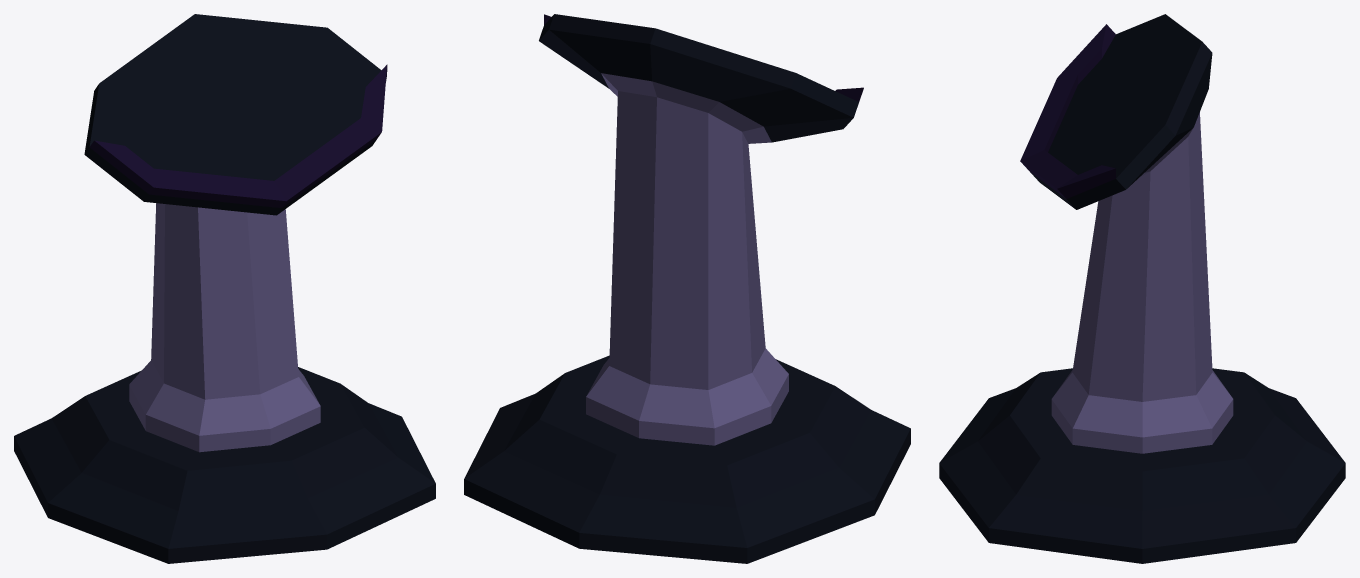
File: AltarPreto.fbx
3 views of the same model, side by side, from view 1: azimuth 30°, elevation 25°; view 2: azimuth 150°, elevation 25°; view 3: azimuth 270°, elevation 25° (orthographic). The views are drawn at different scales.
Visible parts, largest first — view 1: Altar; view 2: Altar; view 3: Altar.
Boxes of the visible parts, left/top/right/bottom form: Altar: left=14, top=14, right=435, bottom=563; Altar: left=464, top=14, right=910, bottom=563; Altar: left=939, top=14, right=1345, bottom=563.
Bounding box in the file's own units: 2.26 × 2.68 × 2.26.
